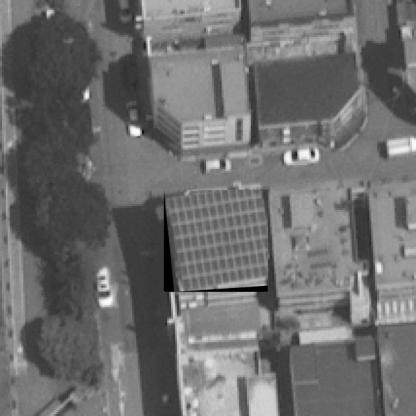solar-pv-panel: (165, 190, 268, 292)
